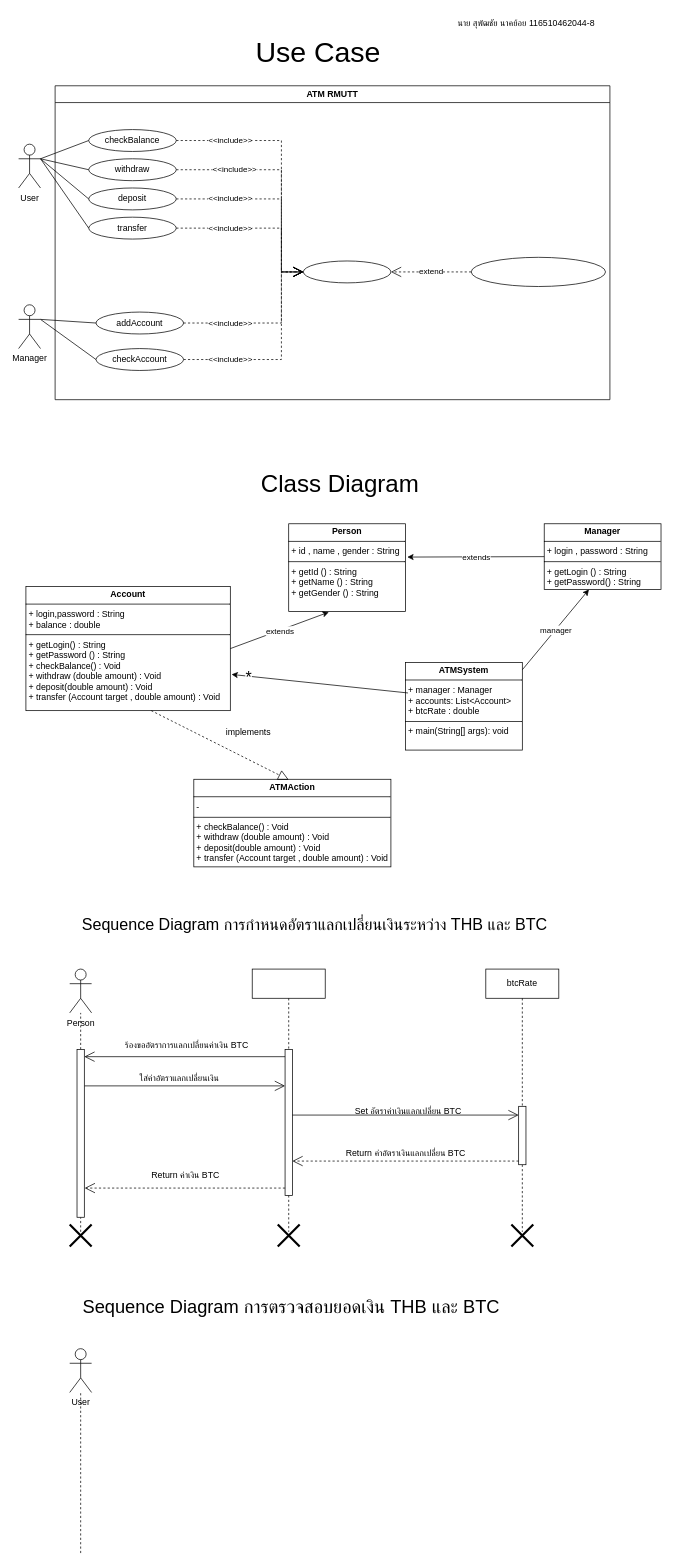
This 674x1567 diagram has some shape labels left out. Here are the shapes that lost their labels. From the top down, the box of each, then its label:
(303, 260, 391, 283): login
(470, 257, 606, 287): handle invalid account and password
(251, 968, 325, 1232): ATMSystem
